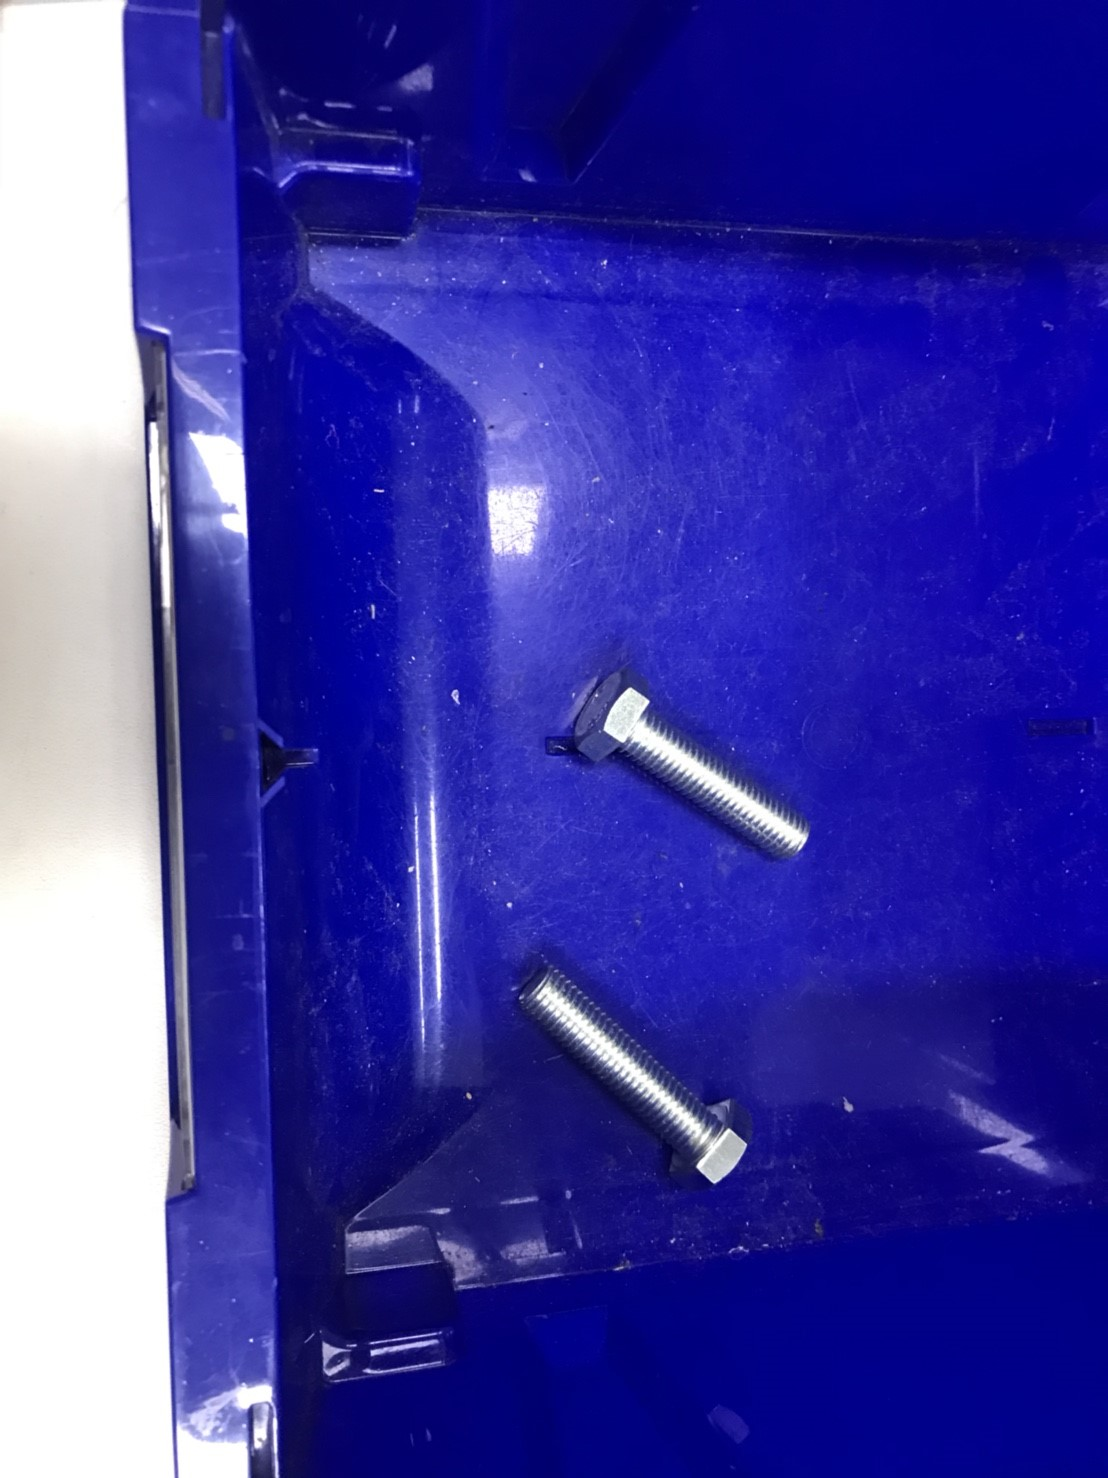screw: (509, 957, 796, 1200), (553, 668, 836, 873)
